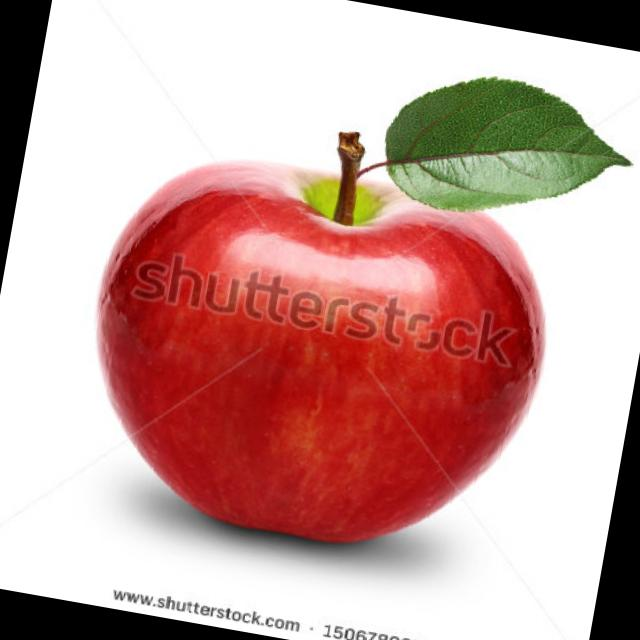apple: (62, 129, 583, 587)
